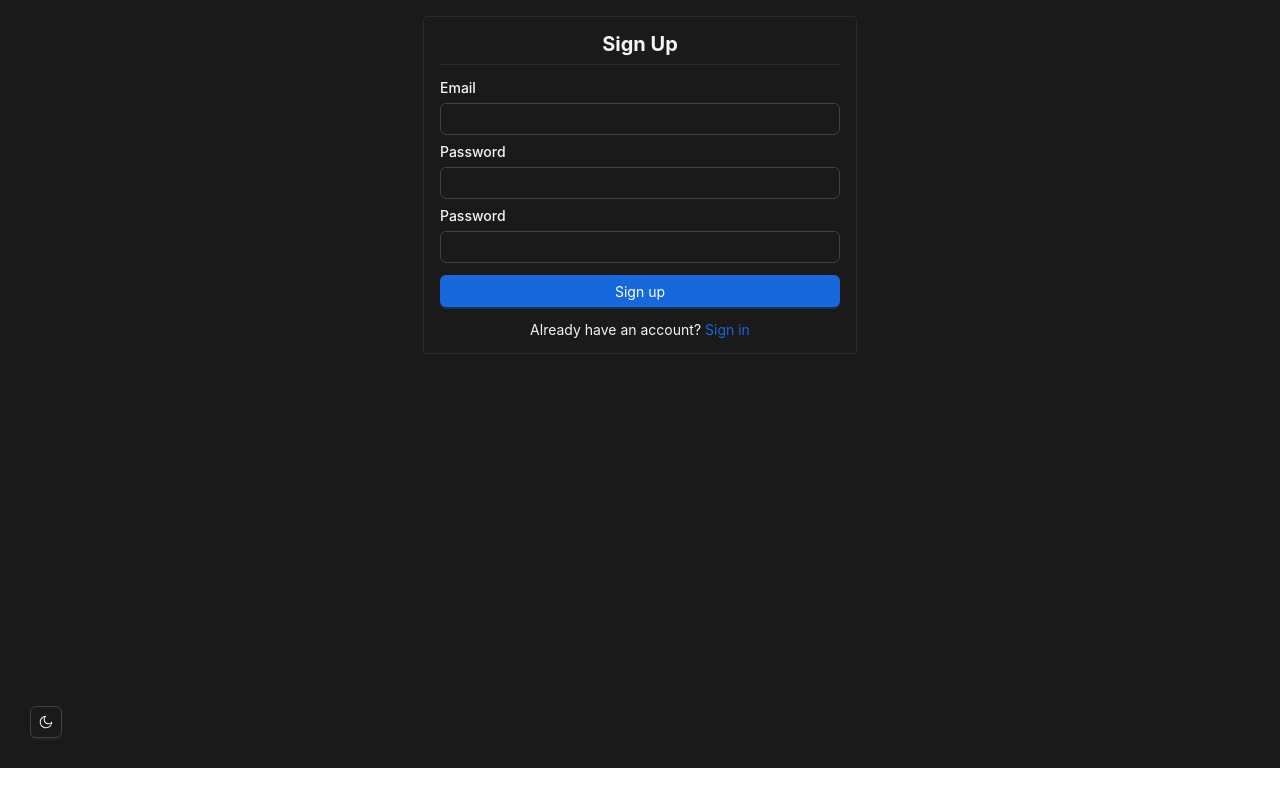
Test: sign-up › shows toast when passwords do not match
In the field with test id "email-input": (640, 119) [440,103,840,135], type "test@test.com"
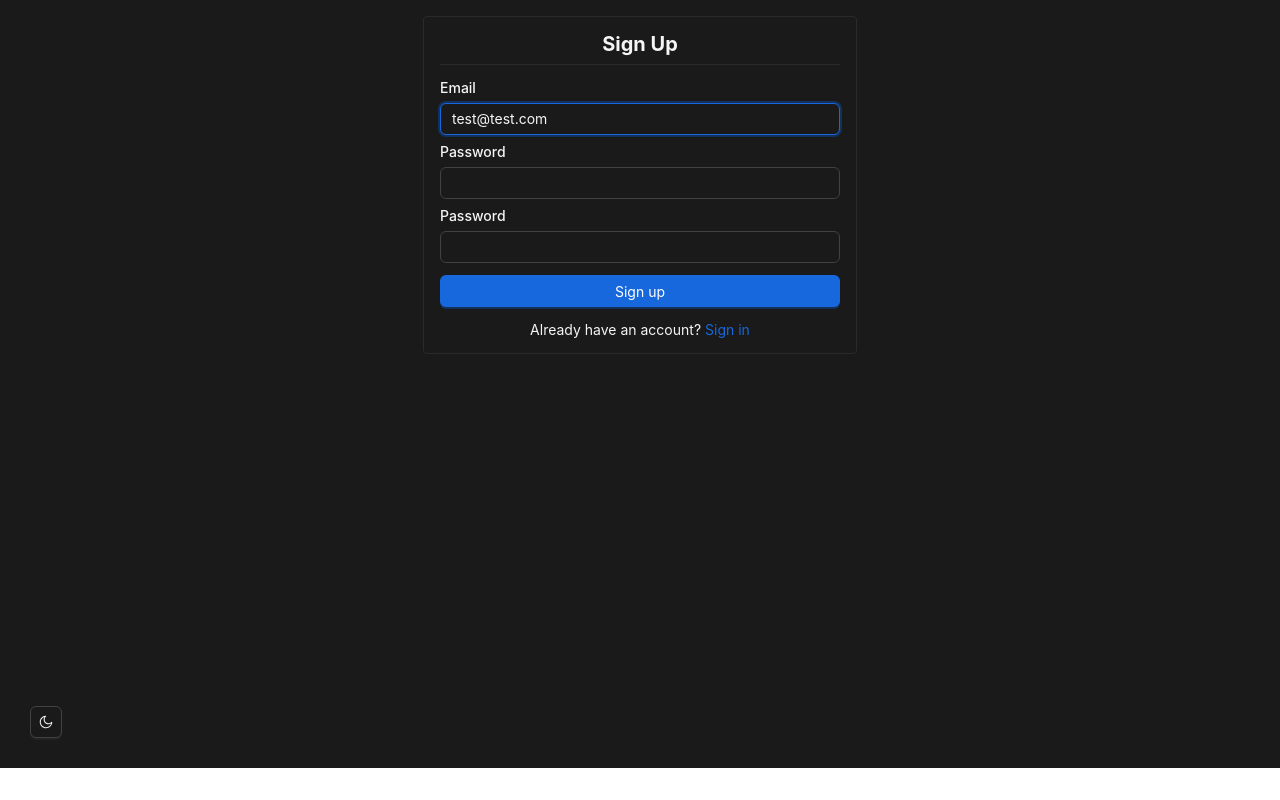
In the password field with test id "password-input": (640, 183) [440,167,840,199], type "pistol"
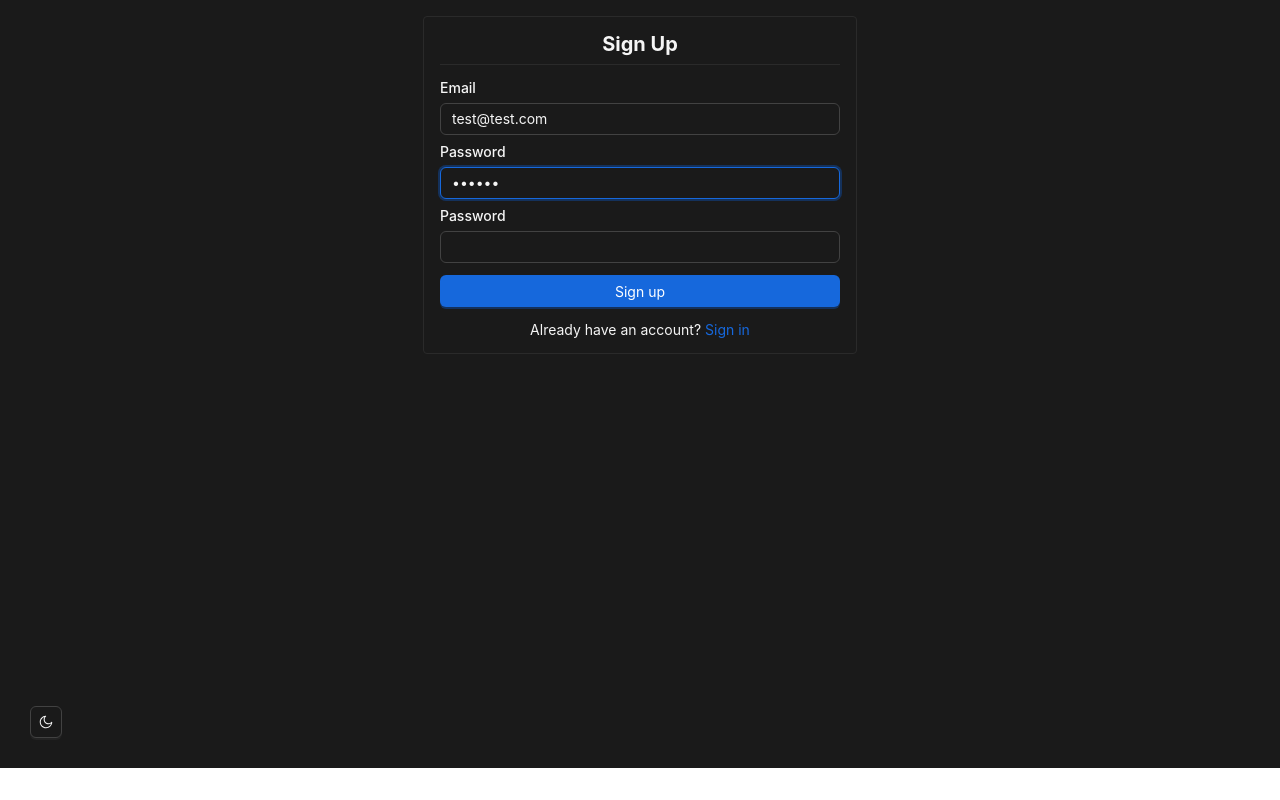
In the password field with test id "new-password-input": (640, 247) [440,231,840,263], type "pistol2"
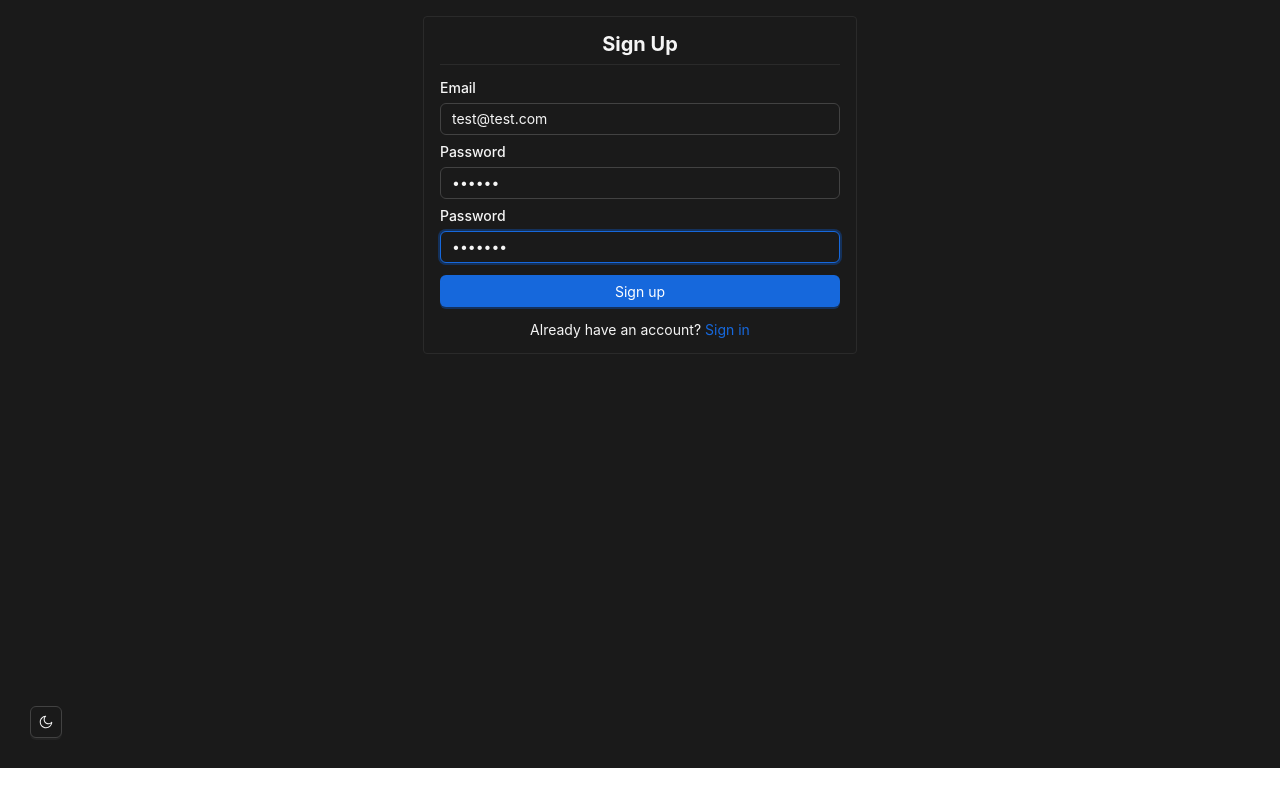
Click the button "Sign up": (640, 291) [440,275,840,307]
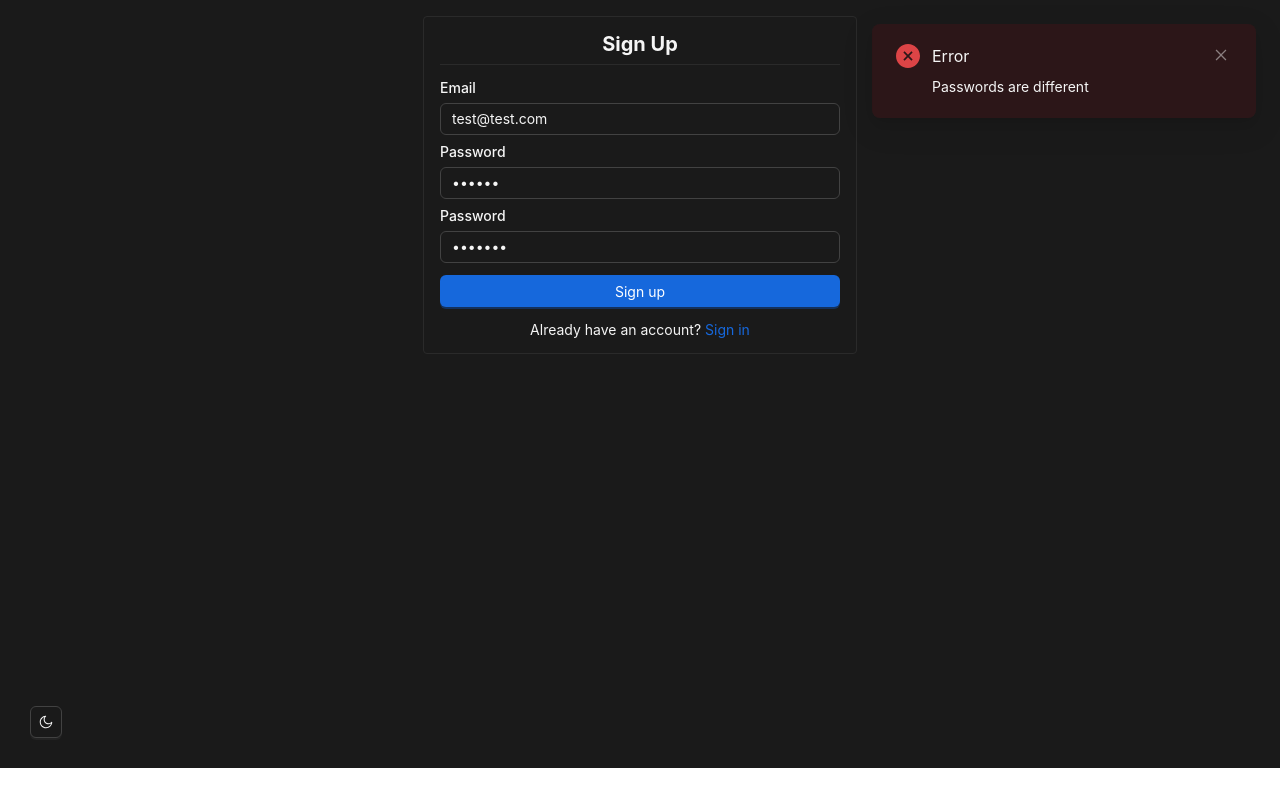
Now the text "Passwords are different" is shown, box [932,78,1089,95]
